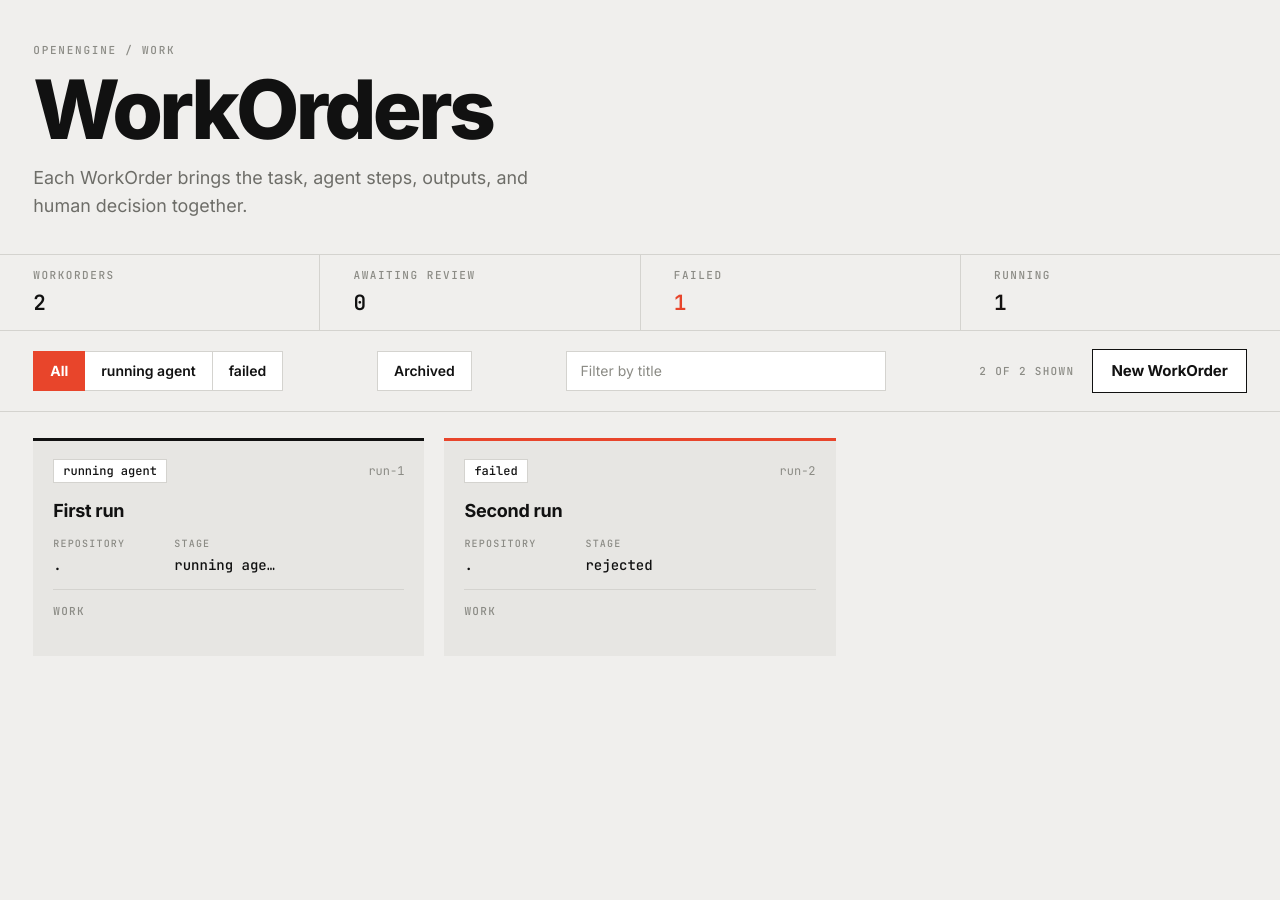
Test case: RunsPage › renders repository and phase and offers only phases that exist
Check: the heading "First run" is shown, box [53,500,124,521]
Check: the link to "/runs/run-1" is shown, box [33,438,424,656]
What coordinates should you click on to do the following:
click the button "failed"
I would click on:
 (248, 371)
Its box is [213,351,283,391].
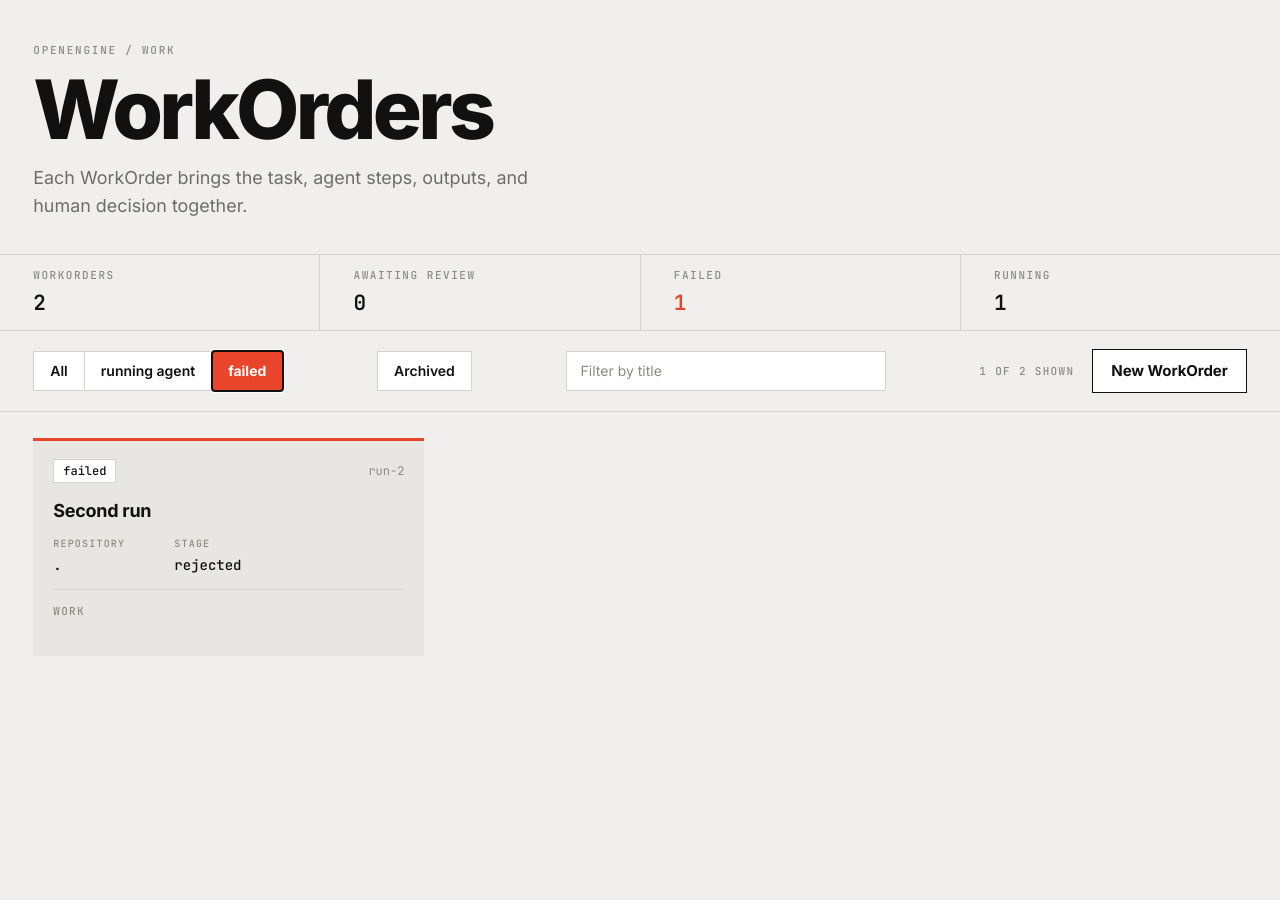
Check: the text "1 of 2 shown" is shown, box [979,363,1074,379]
